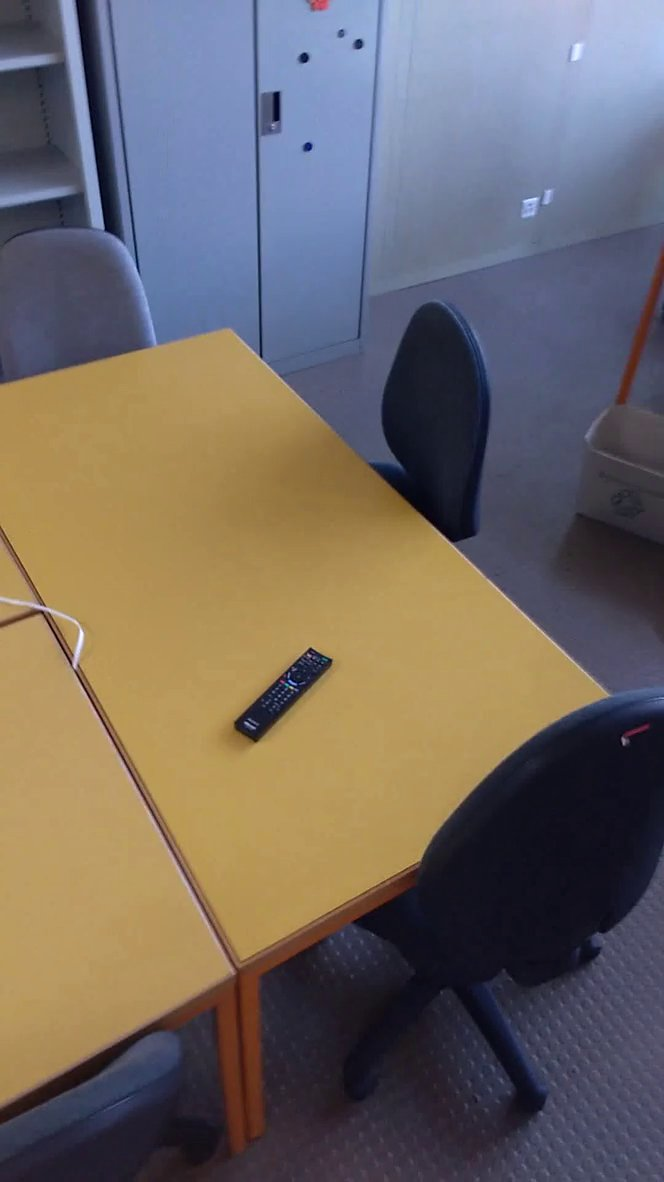box: (571, 396, 664, 558)
chair: (342, 666, 664, 1130), (359, 295, 513, 569), (1, 218, 170, 391)
remote: (221, 640, 344, 751)
